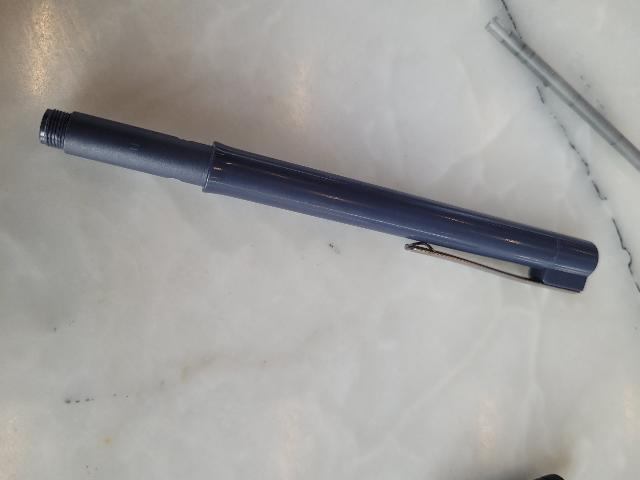Plastik: (37, 104, 602, 307)
